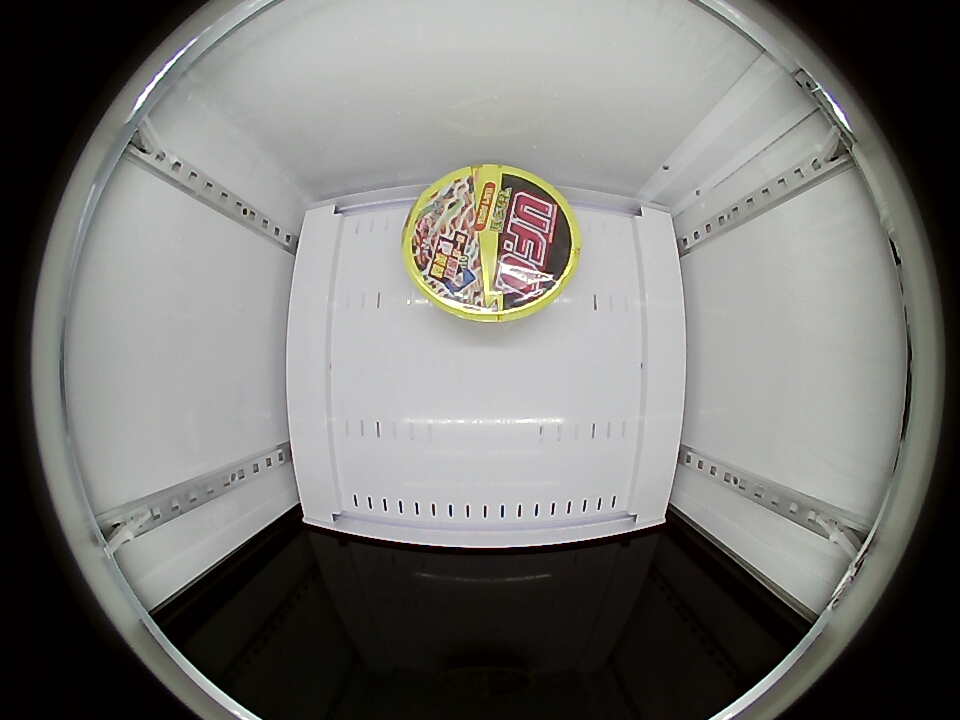ufo: (402, 165, 580, 322)
